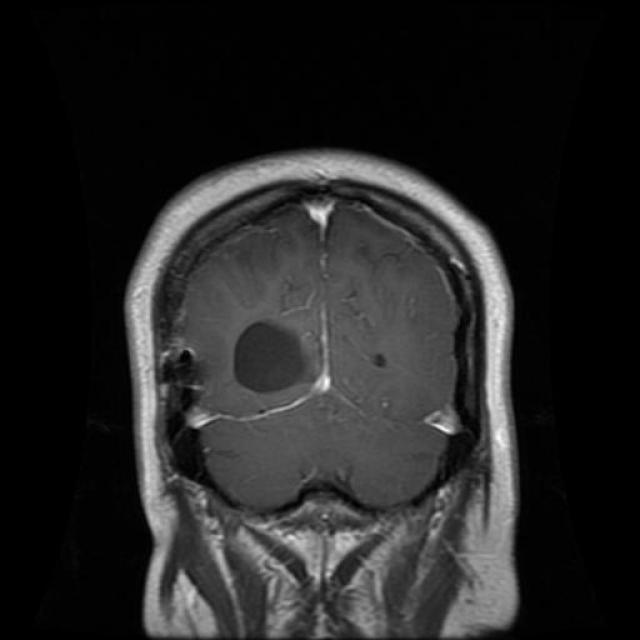glioma: (235, 321, 310, 394)
